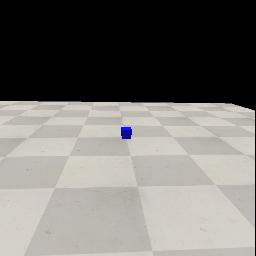box: (121, 127, 132, 139)
